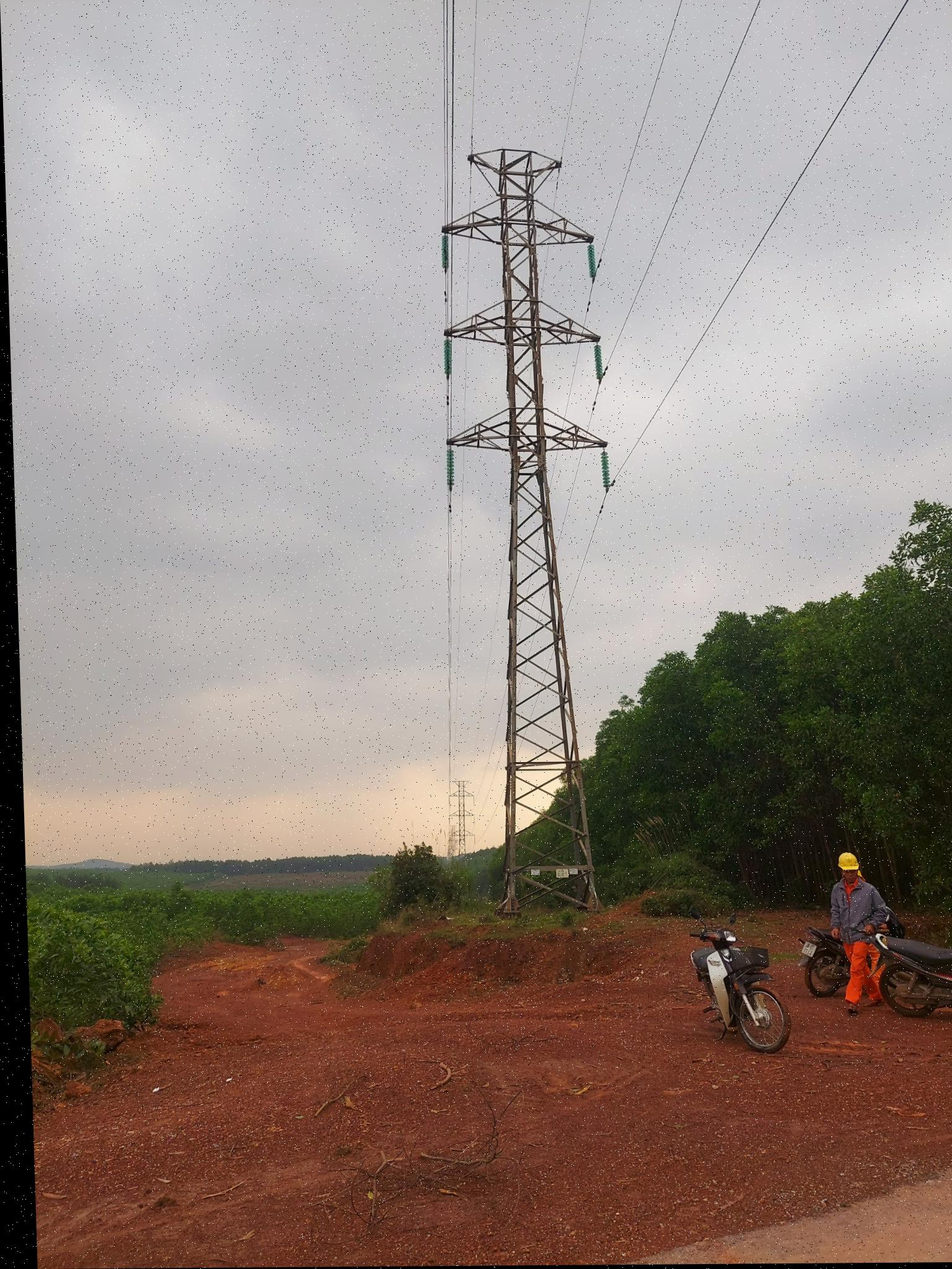tower: (407, 127, 646, 947)
